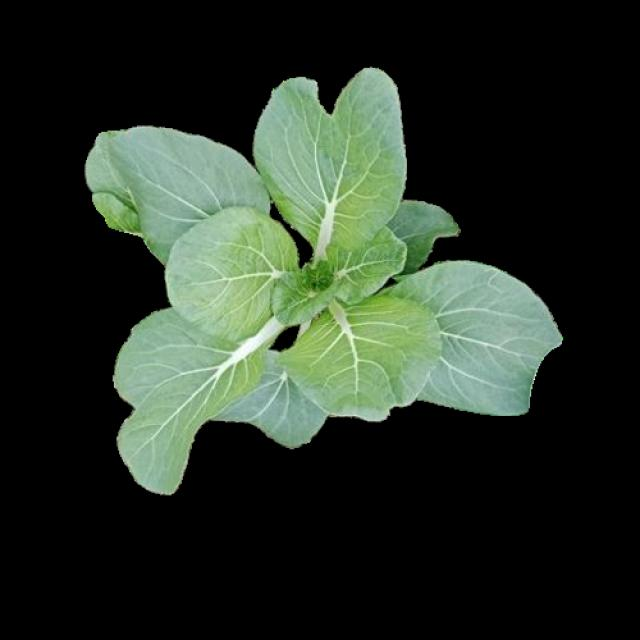healthy: (95, 90, 574, 518)
mature: (82, 67, 562, 496)
